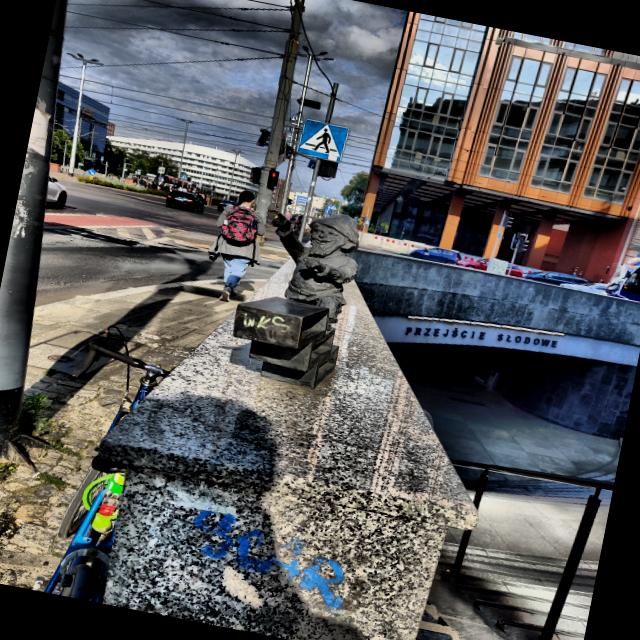Elementek: (233, 215, 358, 389)
